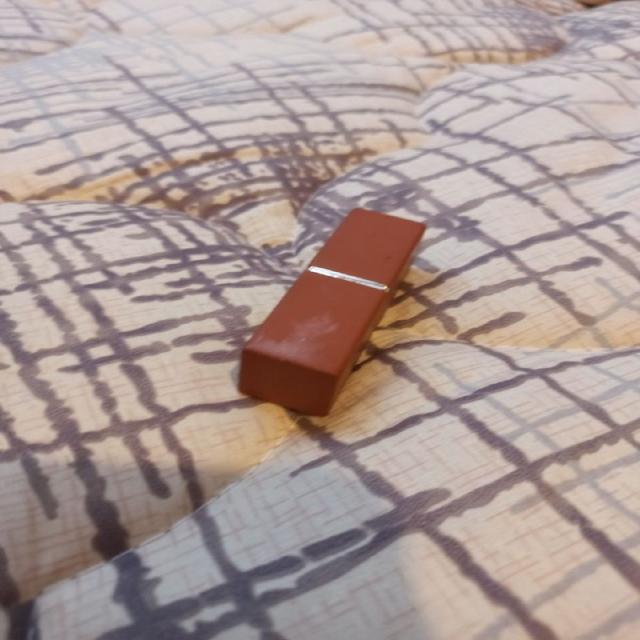lipstick: (236, 206, 426, 417)
